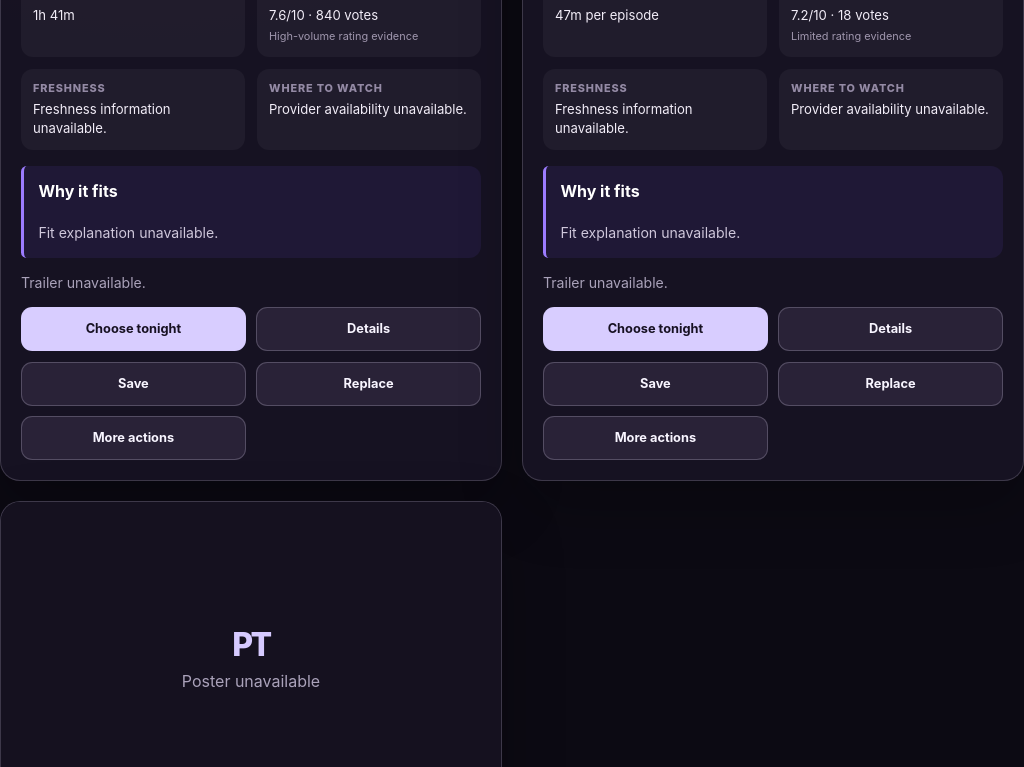
it: FeedbackRecommendationExperience › replaces exactly one card while keeping the other recommendations stable
The image size is (1024, 767).
(page scrolled)
Step 1. Click the button with aria-label "Replace: Preview television B" → (891, 384), box [778, 362, 1003, 406]
(page scrolled)
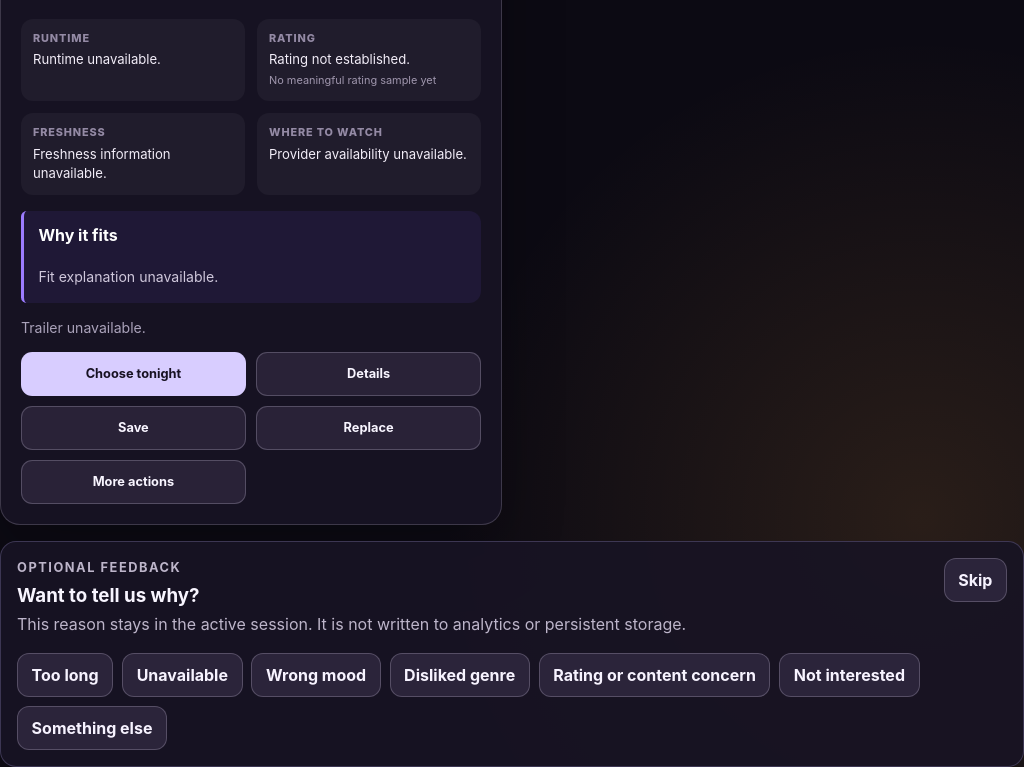
Result: the element named "Optional feedback for Preview television B" is shown at [0, 541, 1023, 766]
